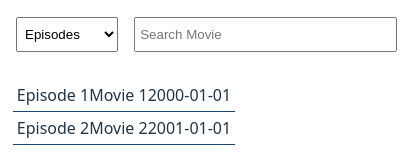
Test: Movies Component › should filter movies based on search input
Type "Movie 1" into the field with placeholder "Search Movie" at coordinates (266, 34), box [134,17,397,52]
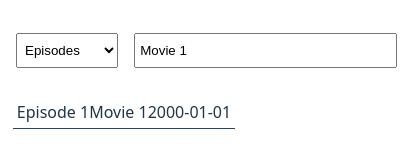
Expected: the text "Movie 1" is shown, [89,100,148,124]
Expected: the text "Movie 2" is gone
